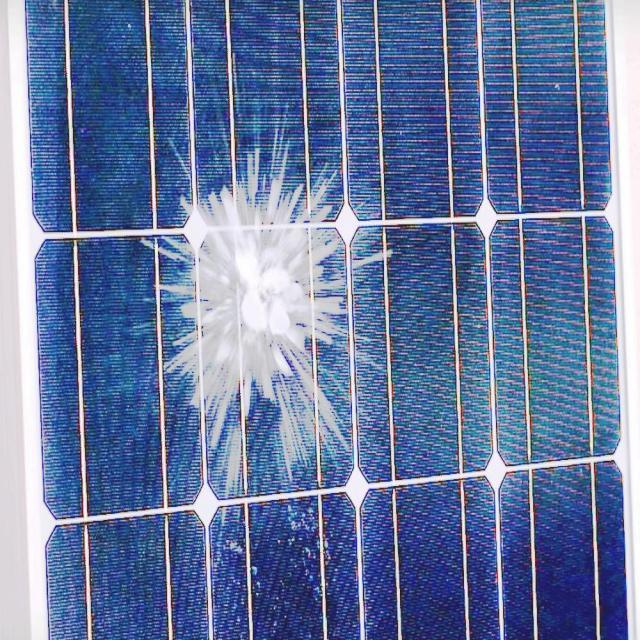faulty: (19, 2, 617, 640)
